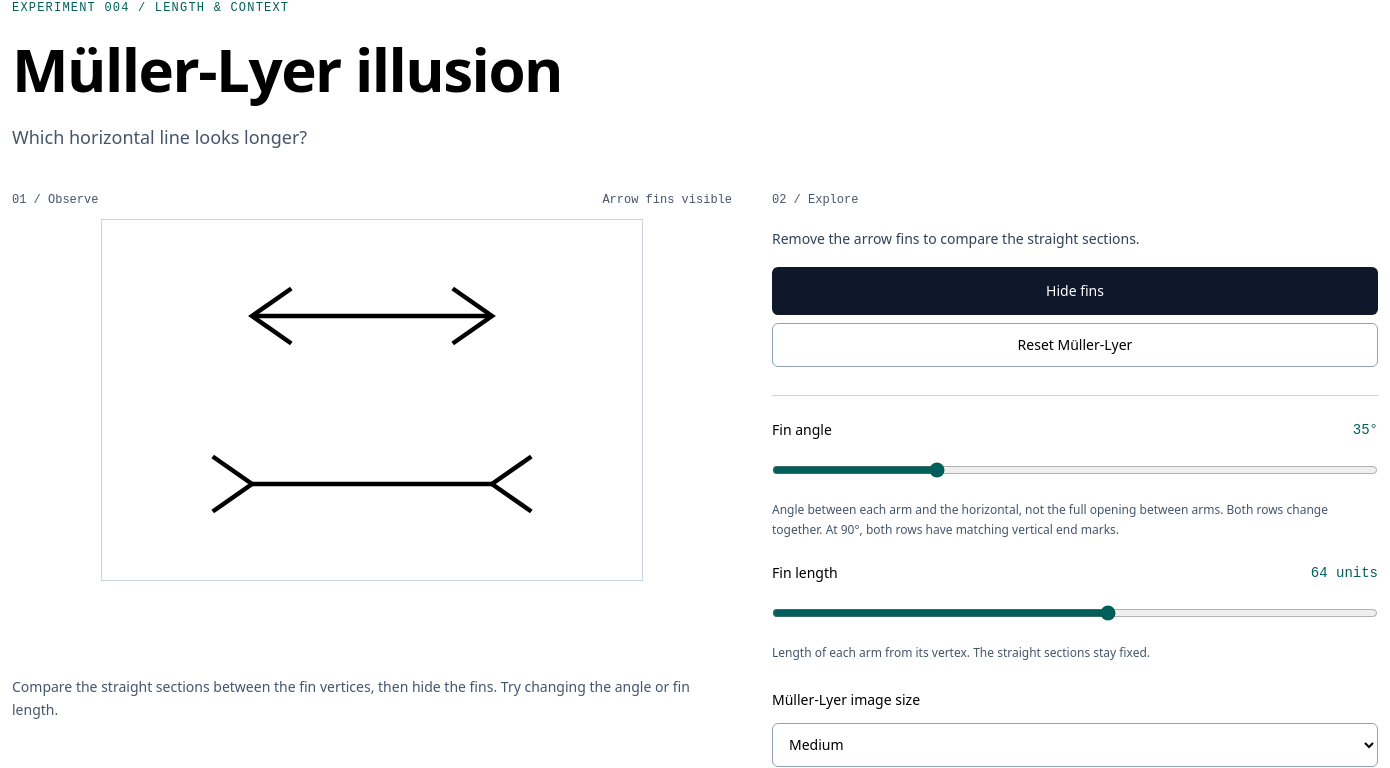
Müller-Lyer experience › supports keyboard disclosure independently and resets every choice with focus retained
This screenshot has width=1390, height=768.
Press Tab
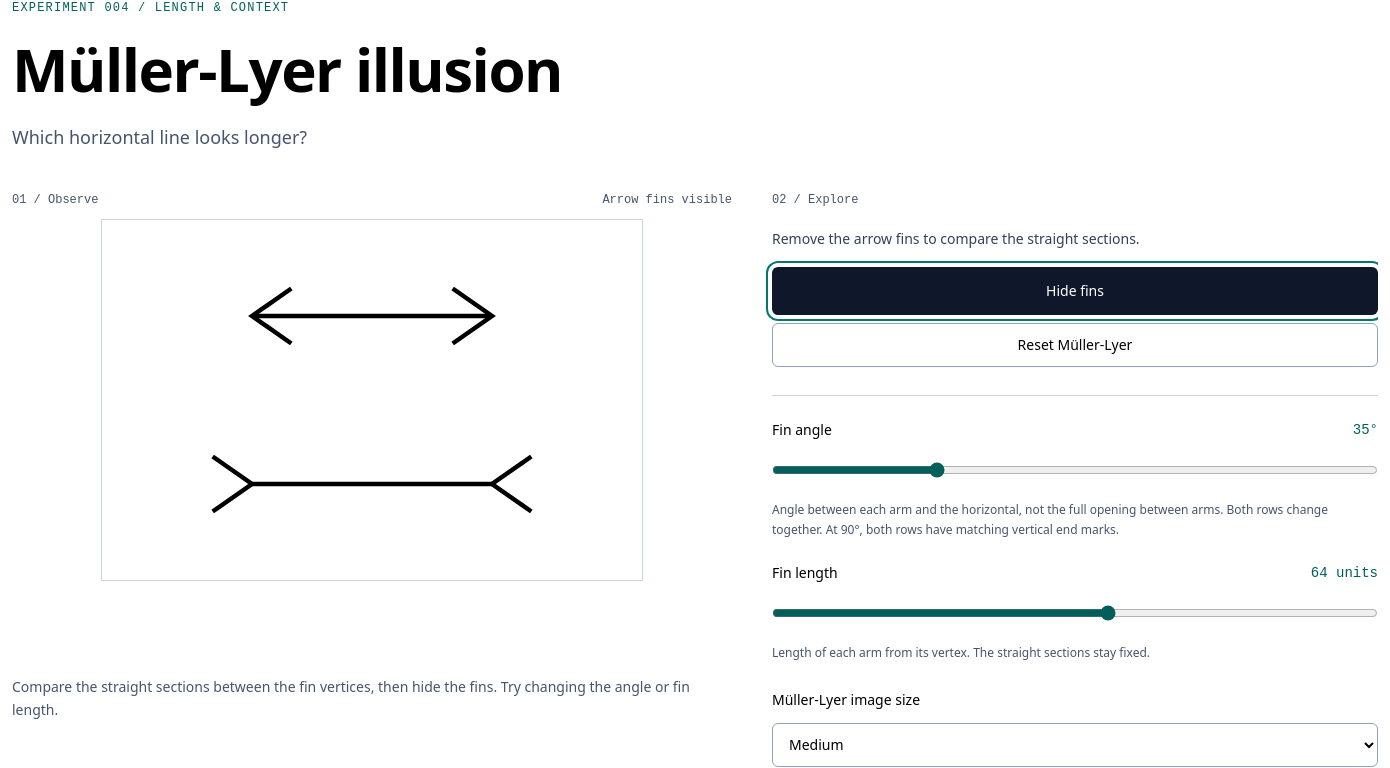
Type keys " "
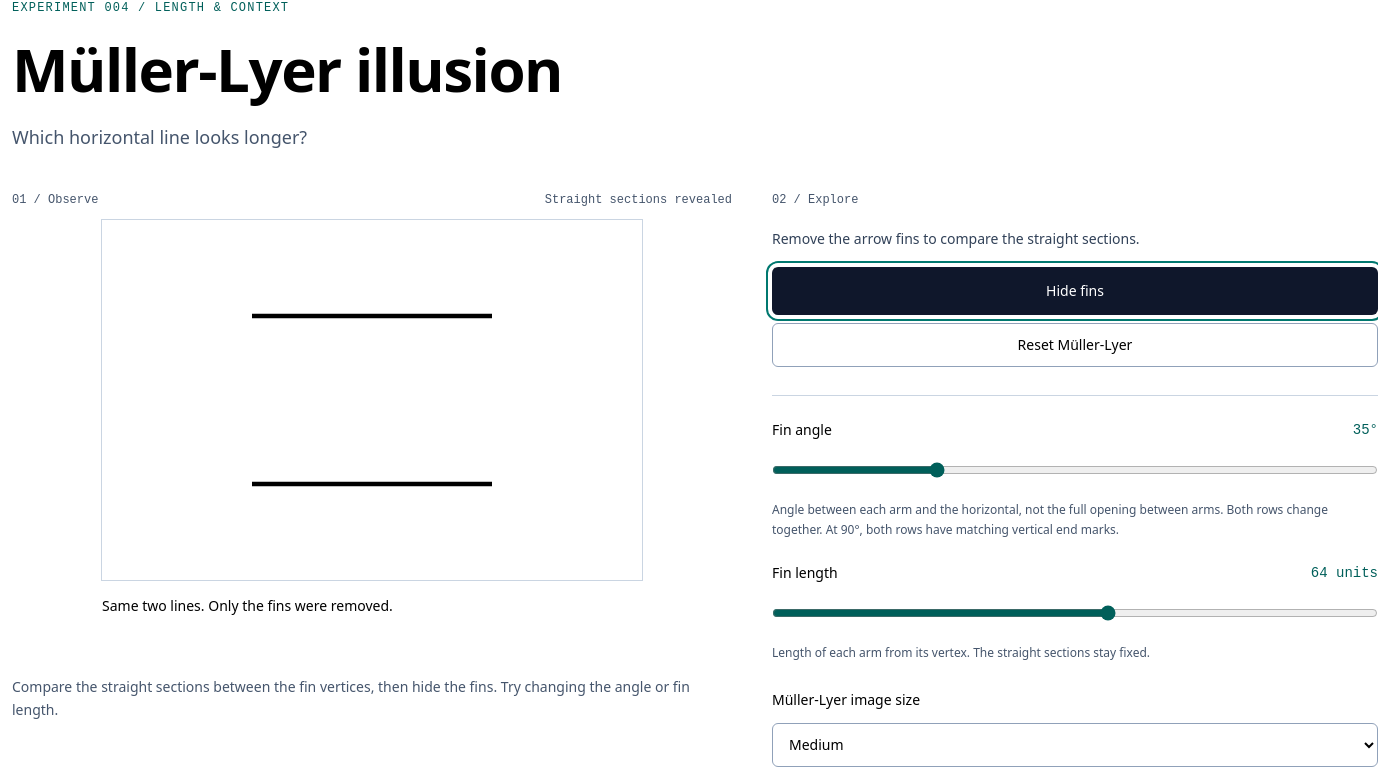
Set the slider labelled "Fin angle" to "15" at (780,470), box [772,448,1378,492]
Set the slider labelled "Fin length" to "96" at (1370,613), box [772,591,1378,635]
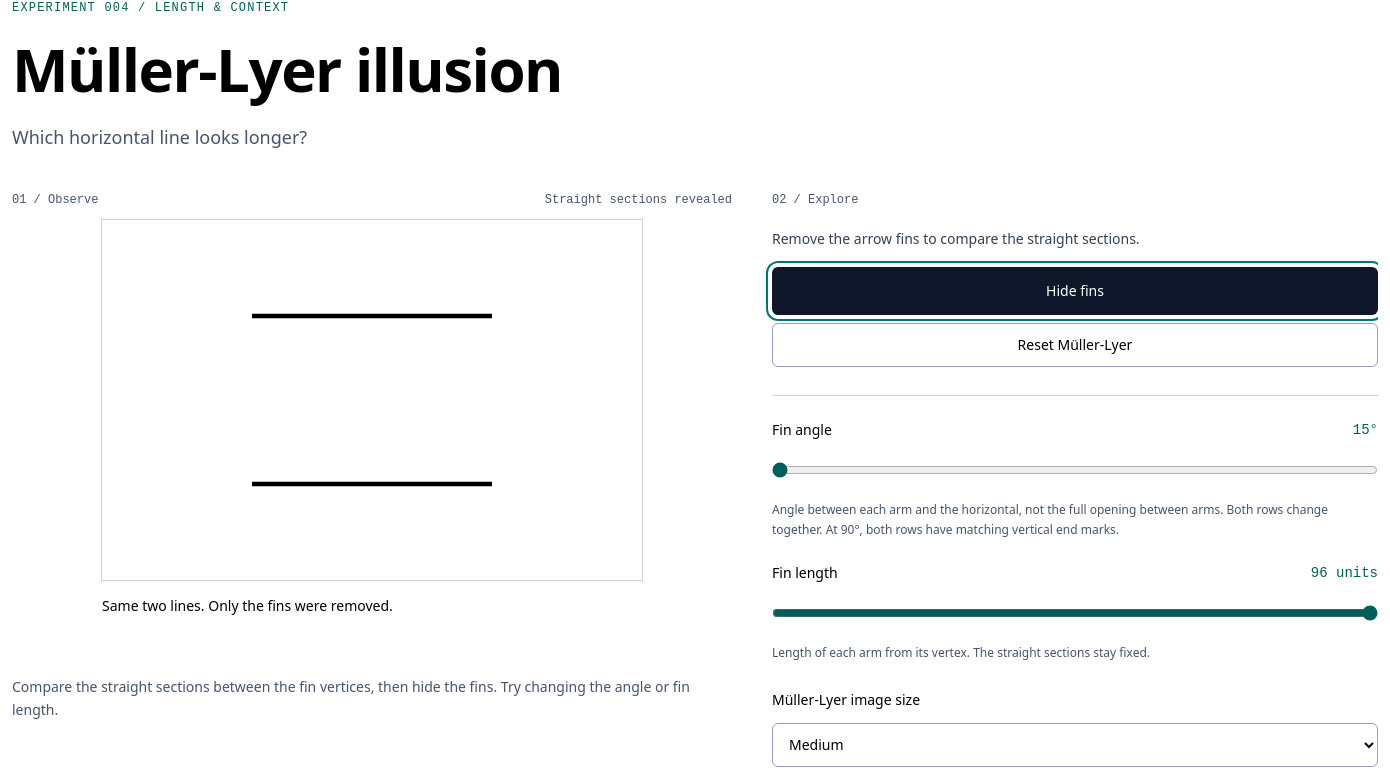
Select "Large" in the dropdown at (1075,744), box [772,722,1378,766]
(page scrolled)
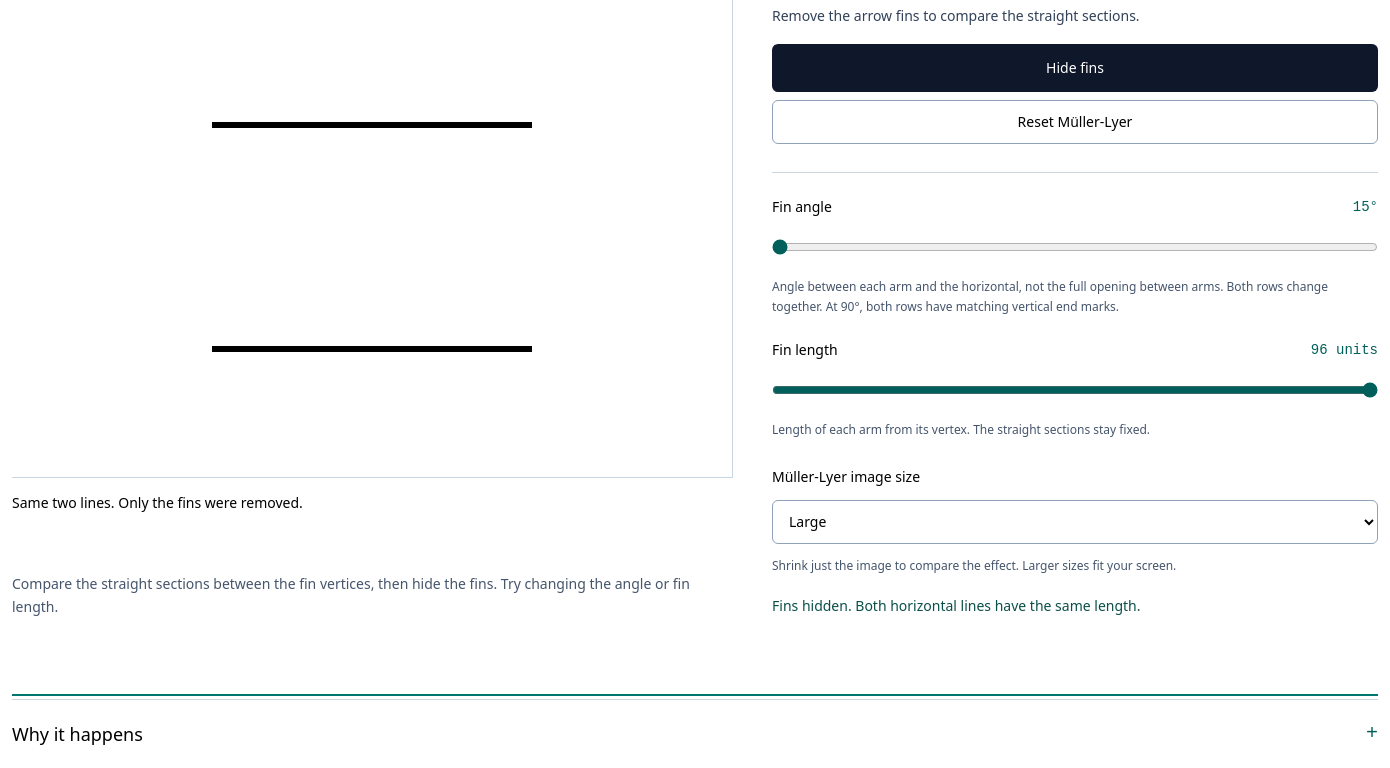
Press Enter
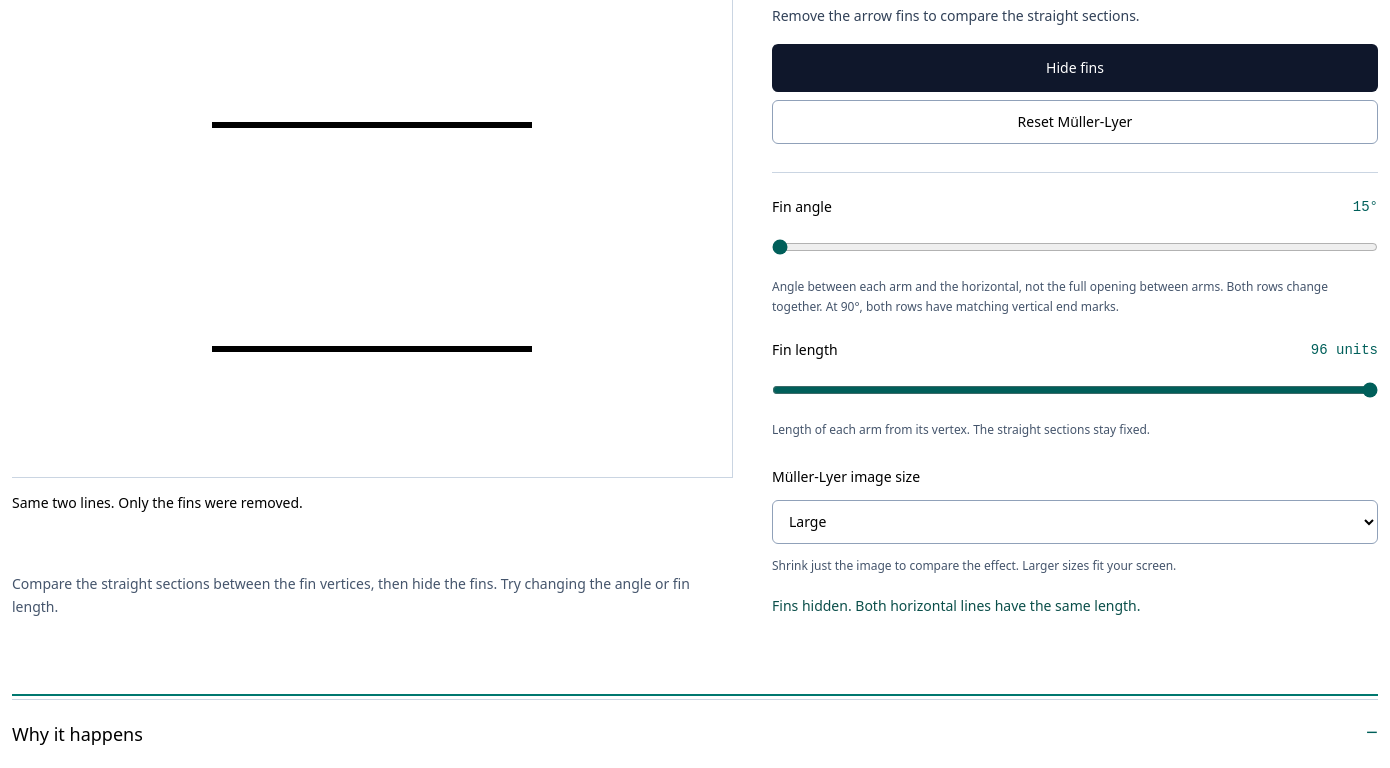
Result: the button "Why it happens −" is expanded at [12,700,1378,767]
Click the button "Reset Müller-Lyer".
click(1075, 122)  # box [772,100,1378,144]
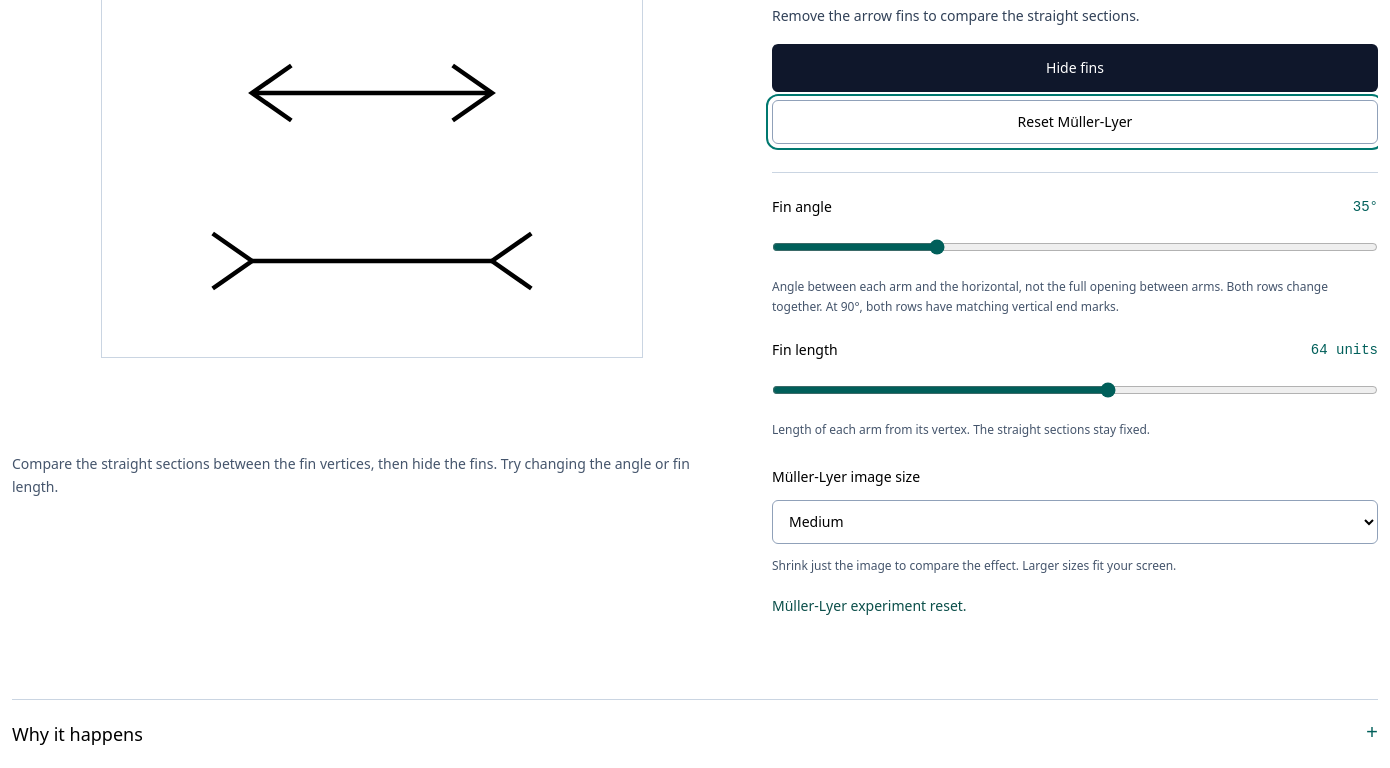
Result: the slider labelled "Fin angle" holds "35" at [772,225,1378,269]
Result: the slider labelled "Fin length" holds "64" at [772,368,1378,412]
Result: the button "Why it happens +" is collapsed at [12,700,1378,767]
